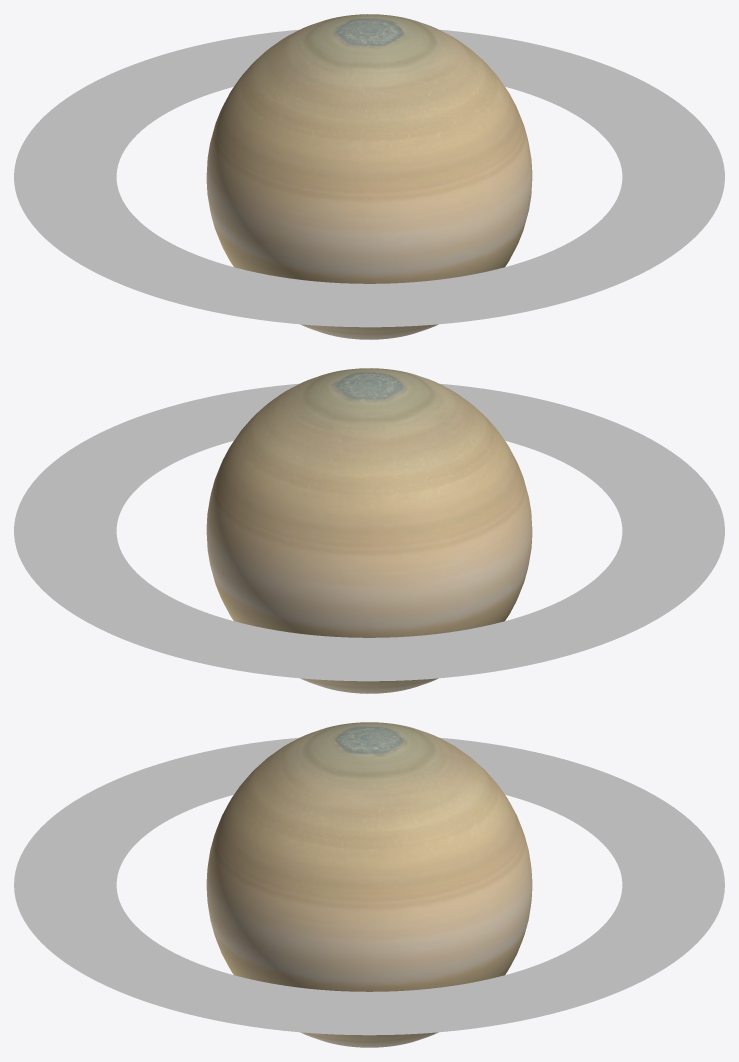
Rendered from saturn.gltf.
The picture shows the model from 3 angles, top to bottom: view 1: azimuth 30°, elevation 25°; view 2: azimuth 150°, elevation 25°; view 3: azimuth 270°, elevation 25°; orthographic projection.
Parts seen in each view (by area): view 1: Saturn; view 2: Saturn; view 3: Saturn.
Part boxes in pixels (box(x1,y1,x2,y2)): Saturn: box(14, 14, 724, 339); Saturn: box(14, 368, 724, 693); Saturn: box(14, 722, 724, 1047).
Bounding box in the file's own units: 25.43 × 11.66 × 25.43.
